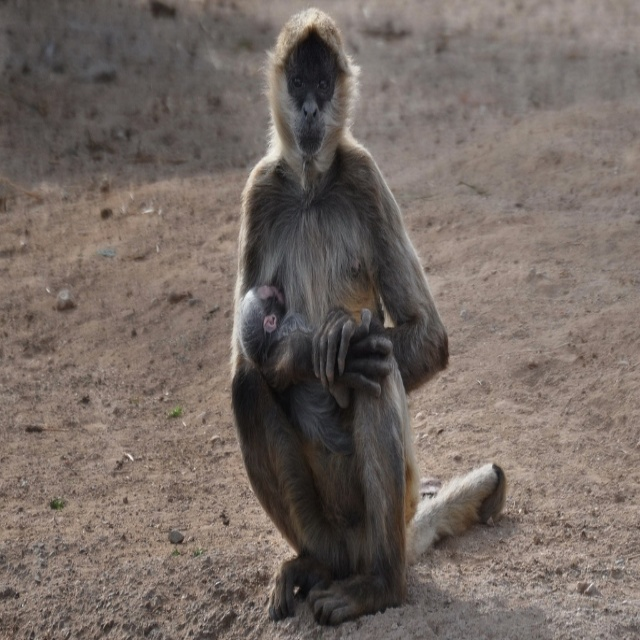Monkey: (227, 7, 506, 626)
